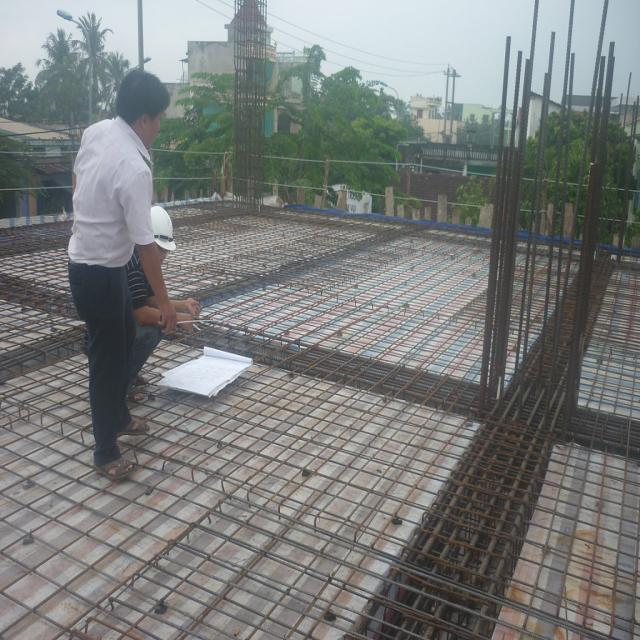hardhat: (149, 195, 179, 254)
no_boots: (94, 459, 131, 484)
no_gloves: (155, 288, 175, 327), (184, 292, 202, 318), (174, 314, 190, 338)
no_hardhat: (115, 66, 166, 150)
no_vest: (78, 122, 154, 285)
person: (74, 71, 178, 480)
